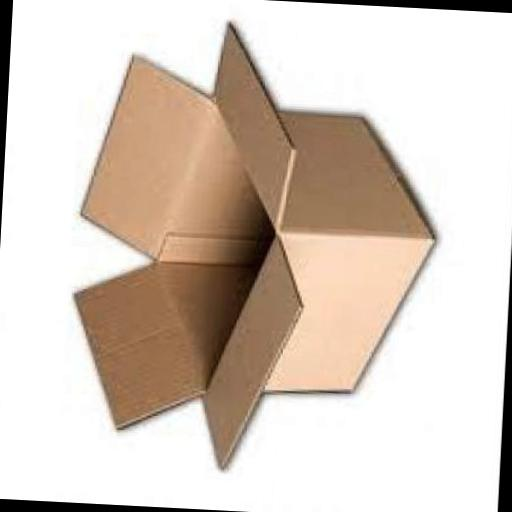cardboard: (62, 18, 444, 484)
